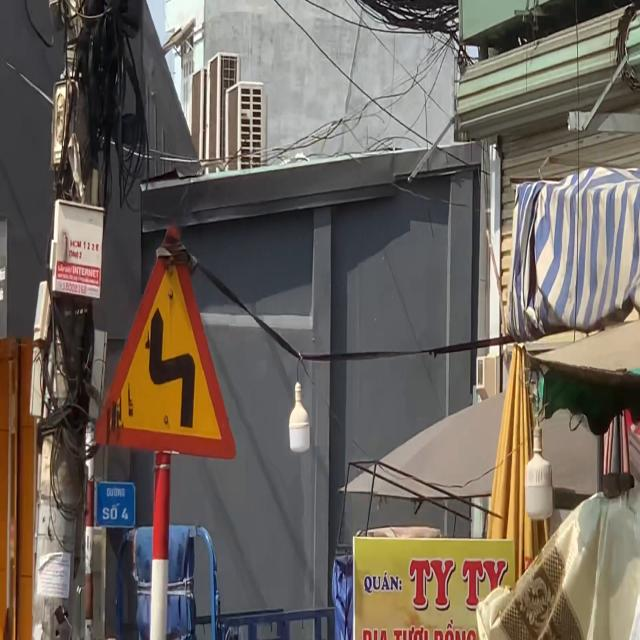Nguy hiem: (93, 219, 238, 463)
